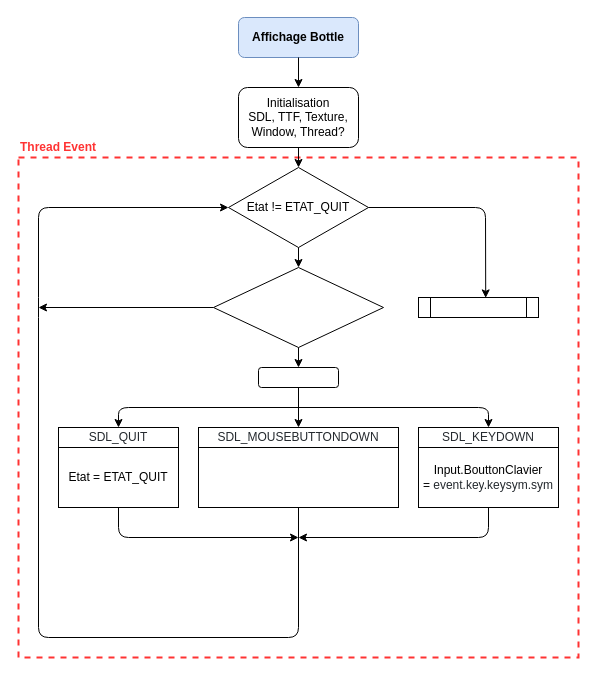
Image size: 596x676. Some labels were removed from this diagram. The centre of each missing label's shape, as x and y in pixels:
Arrêt: pixel 478 307
Input.PressedX = event. button . x Input.PressedY= event. button .y: pixel 298 477
SDL_PollEvent(&event): pixel 298 307
Switch: pixel 298 377
